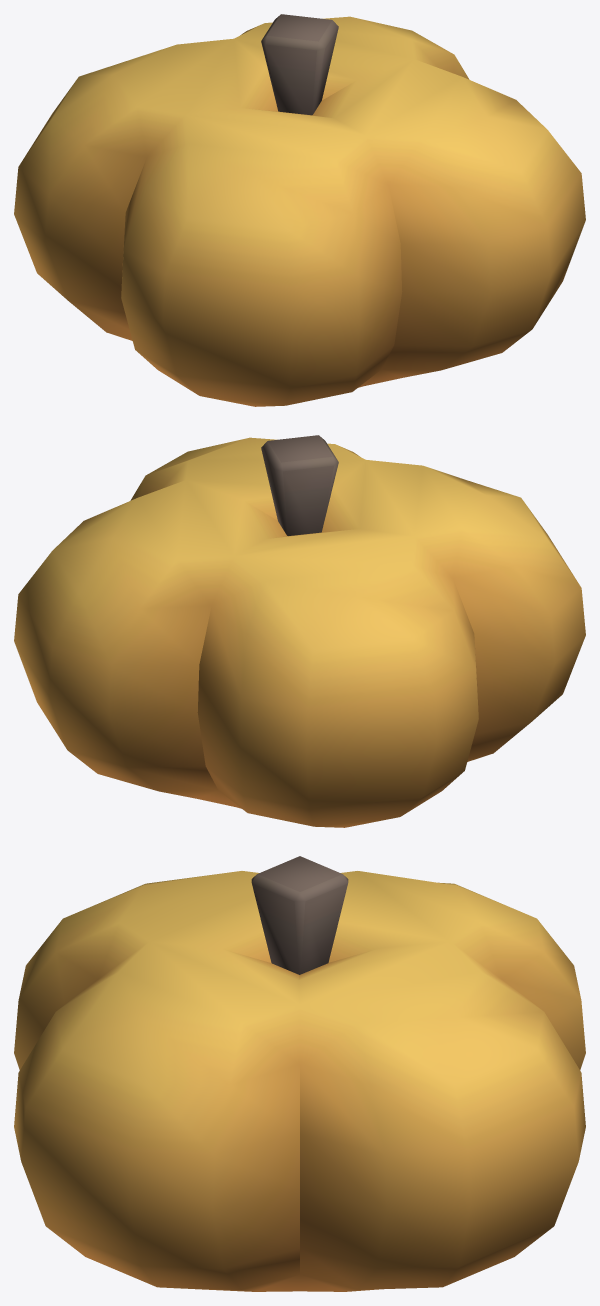
File: d_kaykit_courge.glb
The picture shows the model from 3 angles, top to bottom: view 1: azimuth 30°, elevation 25°; view 2: azimuth 150°, elevation 25°; view 3: azimuth 270°, elevation 25°; orthographic projection. The views are drawn at different scales.
Visible parts, largest first — view 1: d_kaykit_courge; view 2: d_kaykit_courge; view 3: d_kaykit_courge.
Boxes of the visible parts, left/top/right/bottom form: d_kaykit_courge: left=14, top=14, right=585, bottom=406; d_kaykit_courge: left=14, top=435, right=585, bottom=827; d_kaykit_courge: left=14, top=856, right=585, bottom=1291.
Bounding box in the file's own units: 1 × 0.7 × 1.
Materials: 1 (1 with a texture image).
